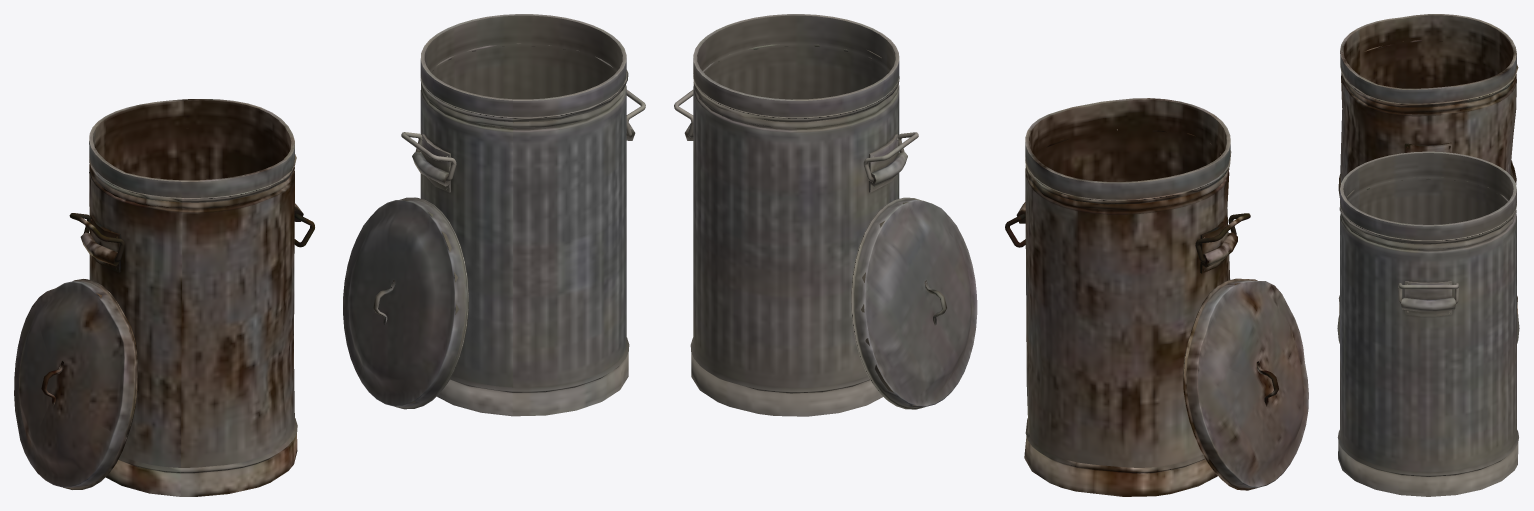
The model's file is metal_trash_can_lod1.glb.
3 renders of one model, left to right at view 1: azimuth 30°, elevation 25°; view 2: azimuth 150°, elevation 25°; view 3: azimuth 270°, elevation 25°, orthographic. The views are drawn at different scales.
Visible parts, largest first — view 1: metal_trash_can, metal_trash_can_rust, metal_trash_can_lid, metal_trash_can_rust_lid; view 2: metal_trash_can, metal_trash_can_rust, metal_trash_can_lid, metal_trash_can_rust_lid; view 3: metal_trash_can, metal_trash_can_rust, metal_trash_can_handle_right.
Part boxes in pixels (x1=…): metal_trash_can: x1=412, y1=14, x2=635, y2=416; metal_trash_can_rust: x1=80, y1=99, x2=303, y2=496; metal_trash_can_lid: x1=343, y1=197, x2=468, y2=409; metal_trash_can_rust_lid: x1=14, y1=279, x2=137, y2=489; metal_trash_can: x1=684, y1=14, x2=907, y2=416; metal_trash_can_rust: x1=1016, y1=98, x2=1237, y2=496; metal_trash_can_lid: x1=851, y1=197, x2=977, y2=409; metal_trash_can_rust_lid: x1=1183, y1=278, x2=1308, y2=490; metal_trash_can: x1=1337, y1=151, x2=1518, y2=496; metal_trash_can_rust: x1=1338, y1=14, x2=1518, y2=316; metal_trash_can_handle_right: x1=1398, y1=283, x2=1458, y2=303.
Bounding box in the file's own units: 1.78 × 0.9062 × 0.5543.
2 materials, 2 textured.
